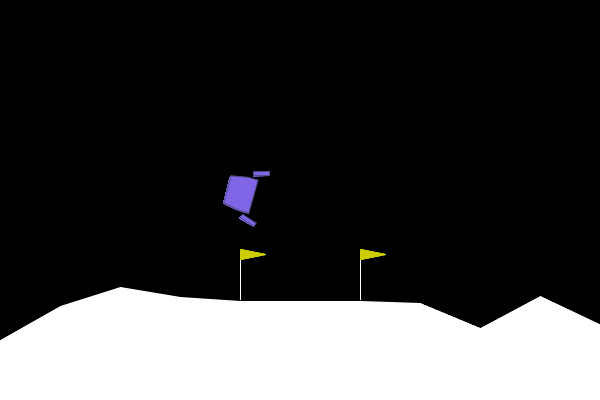lander: (217, 160, 272, 229)
